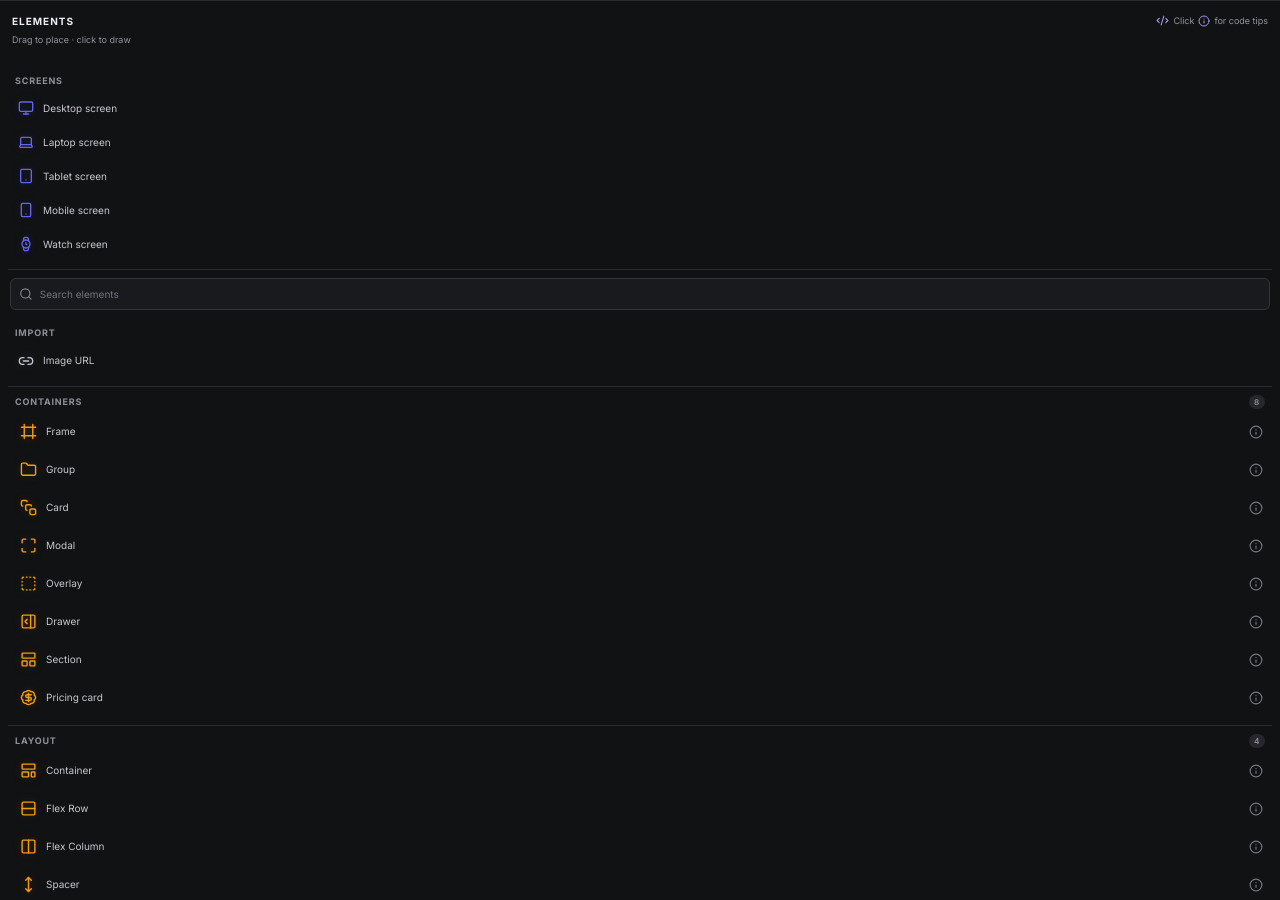
Test case: ElementLibrary imported code shortcuts › search also filters the Screens, Import and Status groups (B14)
expect the number of buttons "Desktop screen" is 5: met, box [10, 92, 1270, 124]; [10, 126, 1270, 158]; [10, 160, 1270, 192]; [10, 194, 1270, 226]; [10, 228, 1270, 260]
In the search field labelled "Search elements": (650, 294) [40, 286, 1261, 302], type "text"
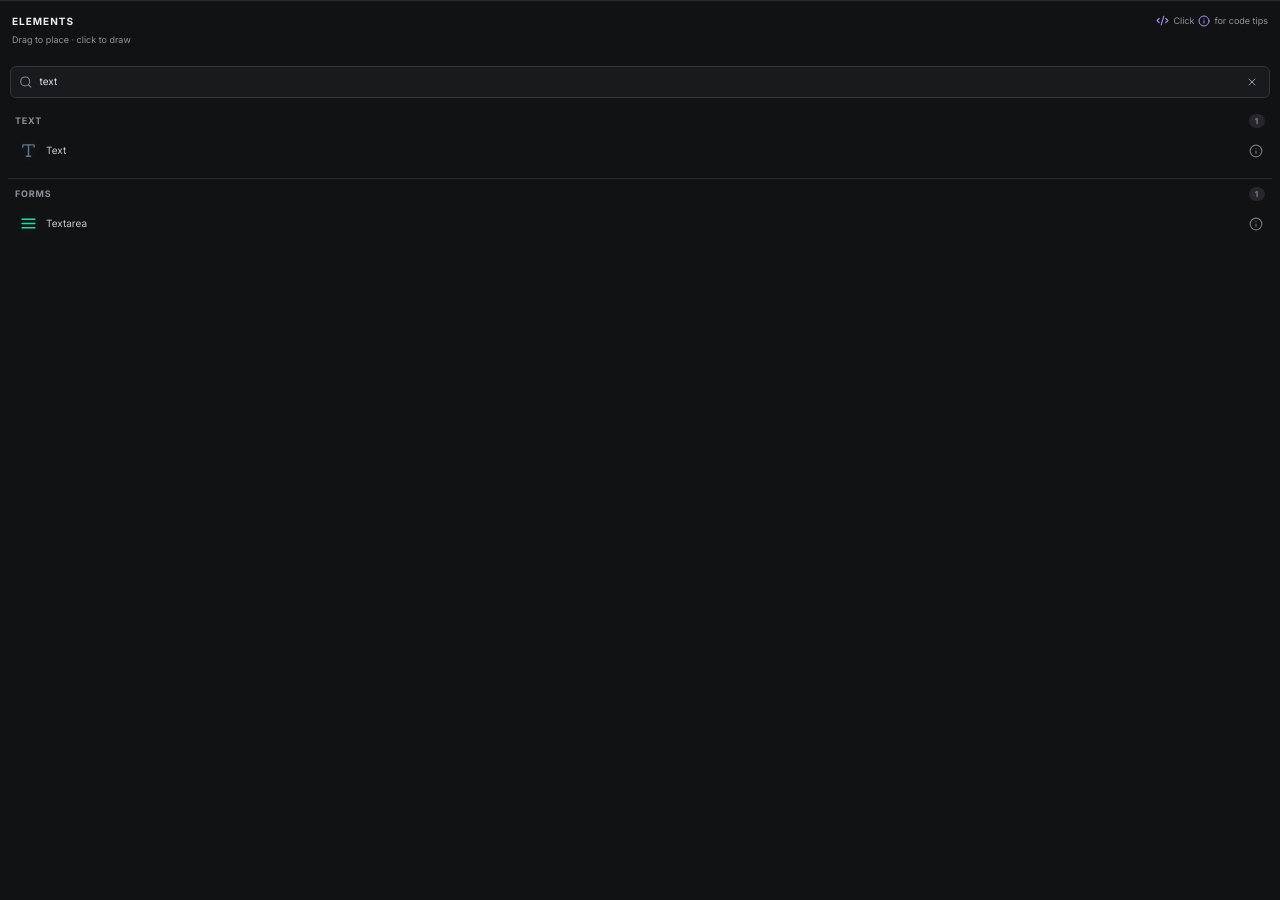
expect the heading "Screens" is gone: met
expect the button with aria-label "Add Text" is shown: met, box [12, 134, 1241, 166]
# Screens can still be found by their own words.
Replace the text in the search field named "Search elements" with "mobile": (638, 82) [40, 74, 1236, 89]
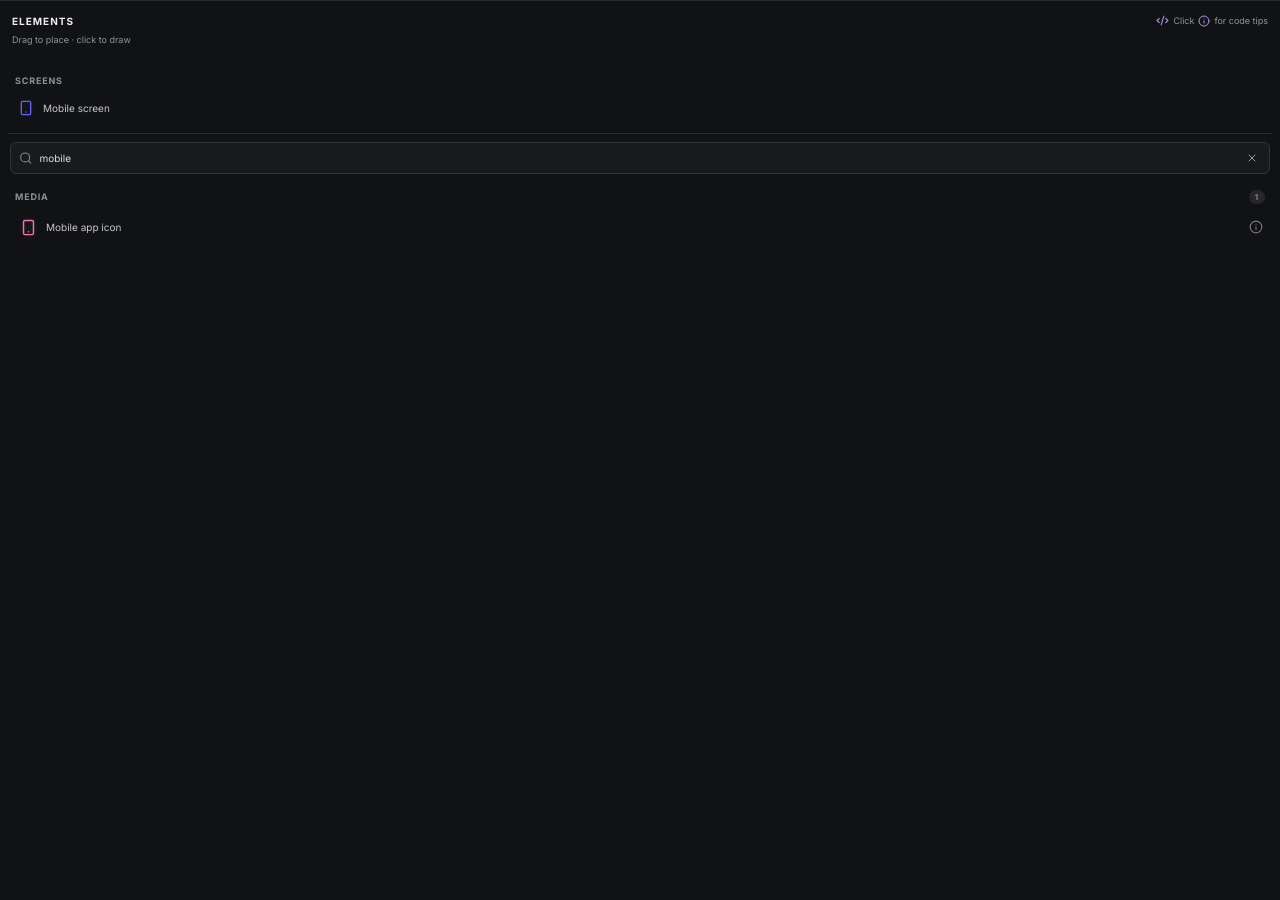
expect the number of buttons "Mobile screen" is 1: met, box [10, 92, 1270, 124]
Replace the text in the search field named "Search elements" with "zzzz": (638, 158) [40, 150, 1236, 166]
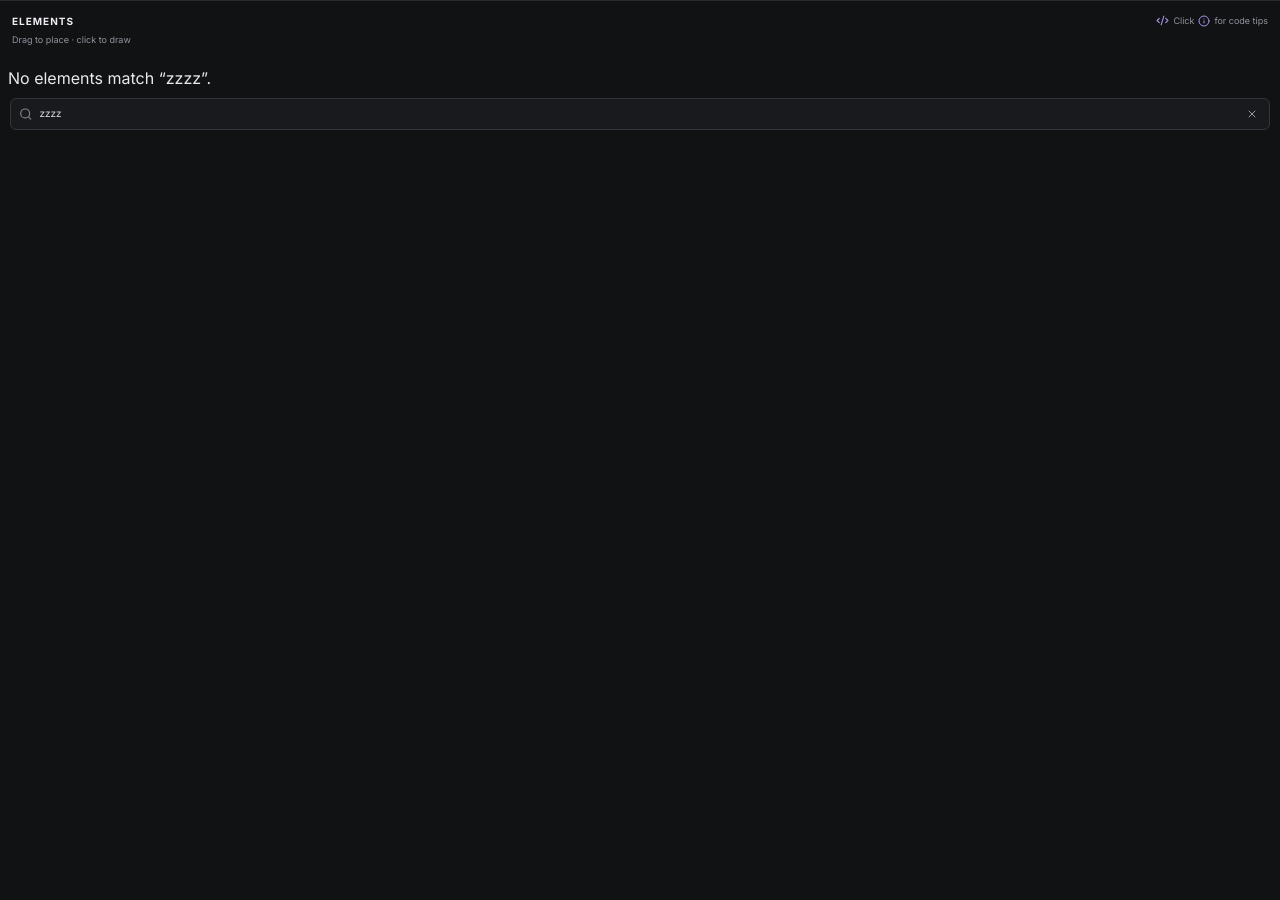
expect the message shows "No elements match": met, box [8, 68, 166, 88]
